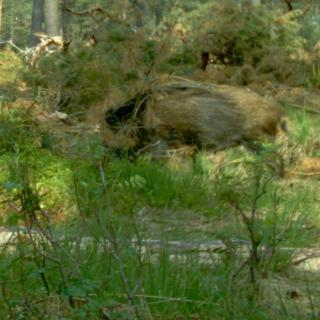Pig: (97, 69, 306, 180)
